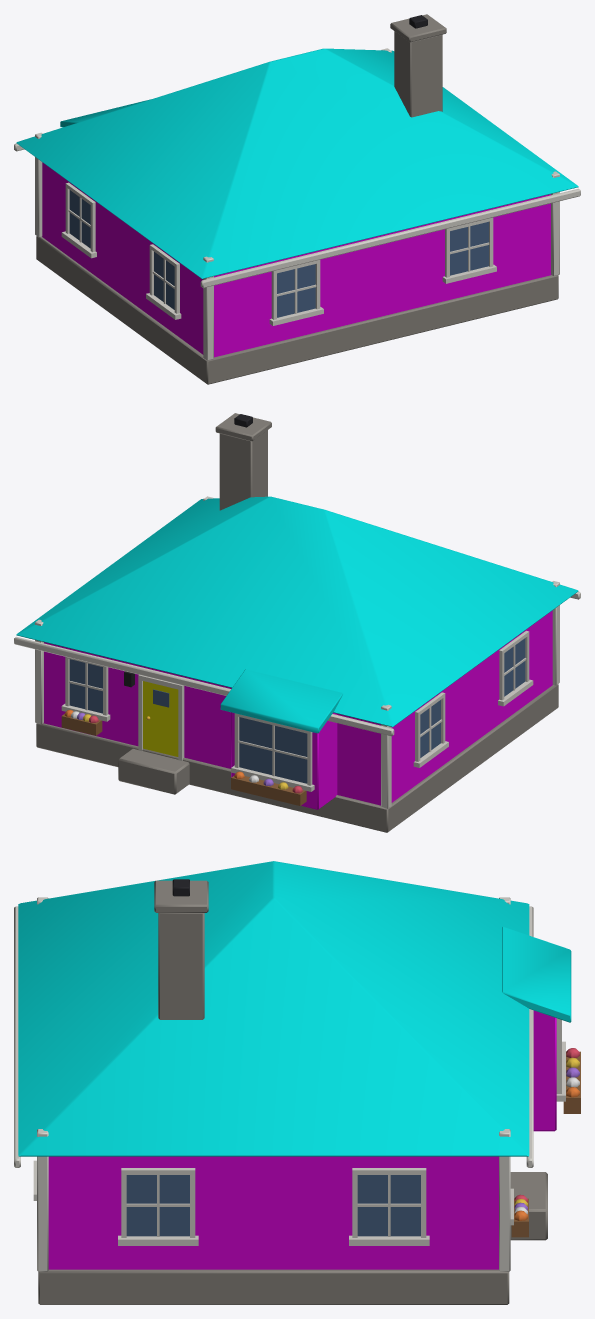
Rendered from House_Cottage.fbx.
The picture shows the model from 3 angles, top to bottom: view 1: azimuth 30°, elevation 25°; view 2: azimuth 150°, elevation 25°; view 3: azimuth 270°, elevation 25°; orthographic projection. The views are drawn at different scales.
Parts seen in each view (by area): view 1: House_Cottage; view 2: House_Cottage; view 3: House_Cottage.
Boxes of the visible parts, bbox=[...] form: House_Cottage: bbox=[14, 14, 580, 384]; House_Cottage: bbox=[14, 413, 580, 832]; House_Cottage: bbox=[14, 861, 580, 1304].
Size of the model in its own units: 10.4 by 6.94 by 9.82.
